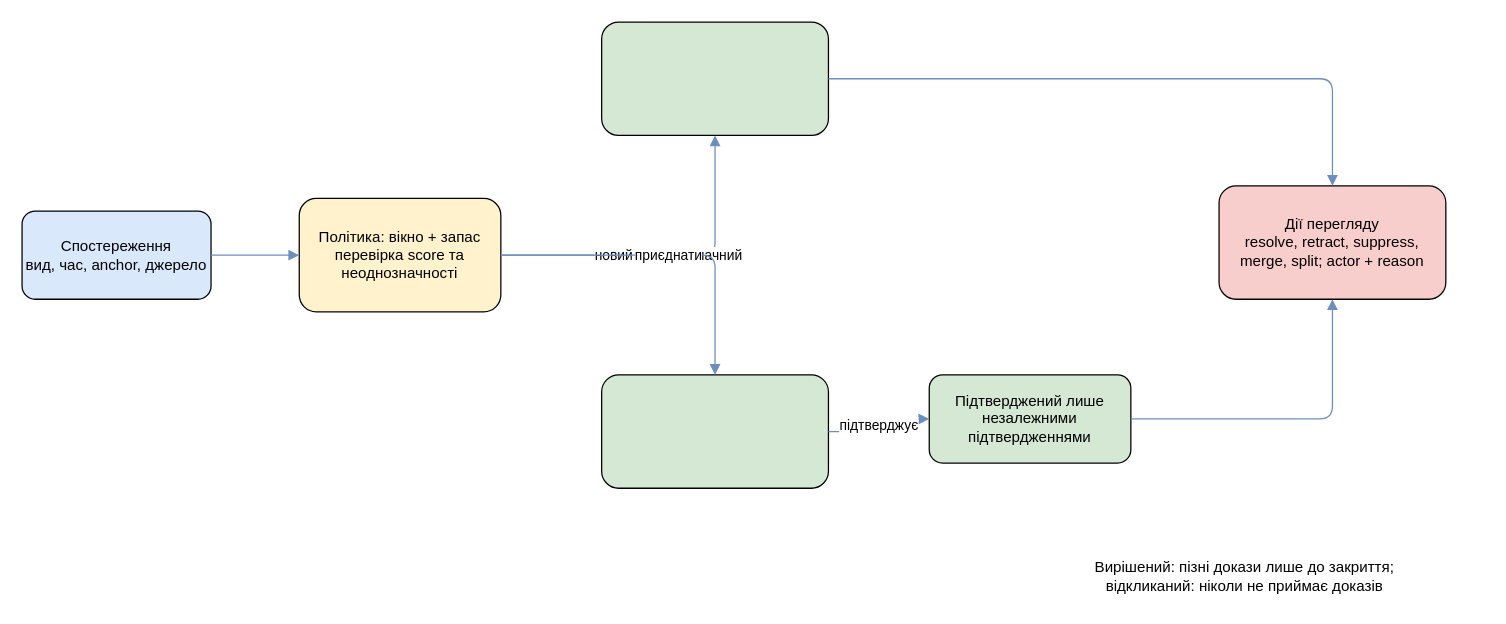
Image size: 1506x624. Some labels were removed from this diagram. Each missing label, with the centre of its shape:
"Наявний інцидент підтримка / відлуння / підтвердження + revision" goes at (x=714, y=431).
"Новий заявлений інцидент канонічний або неоднозначний зв'язок + revision" goes at (x=714, y=78).
